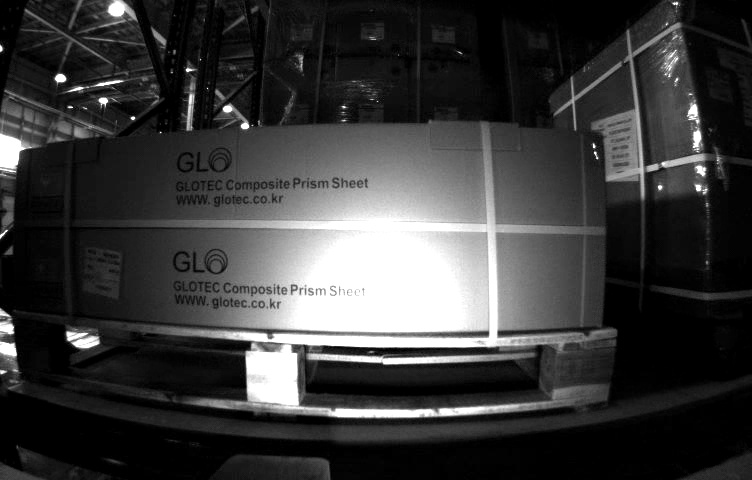True Barcode: (80, 243, 119, 299), (711, 64, 735, 98)
